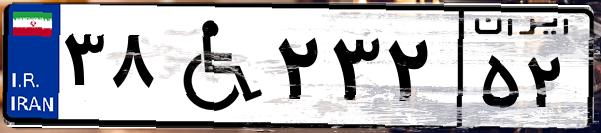2: (270, 28, 330, 110), (385, 28, 445, 110), (525, 38, 570, 115)
3: (330, 28, 385, 110), (57, 26, 110, 100)
5: (475, 38, 525, 113)
8: (110, 28, 158, 98)
ژ (معلولین و جانبازان): (158, 12, 270, 120)
